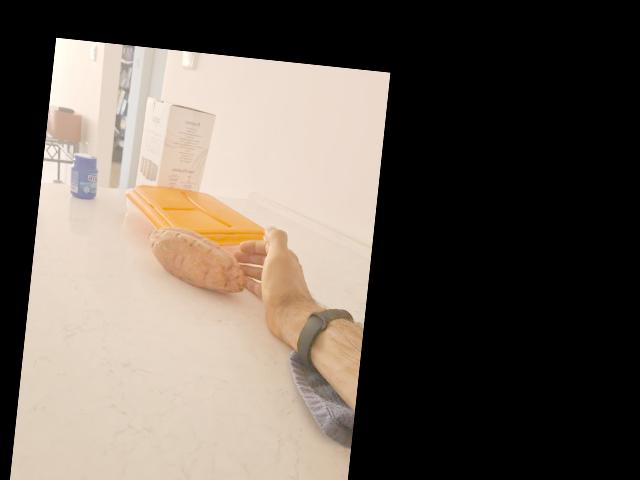sweet_potato: (139, 227, 250, 294)
